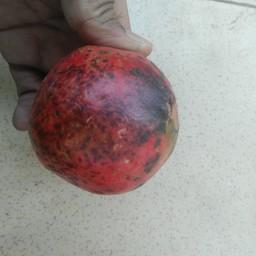Bad_pomegranate: (25, 45, 187, 199)
